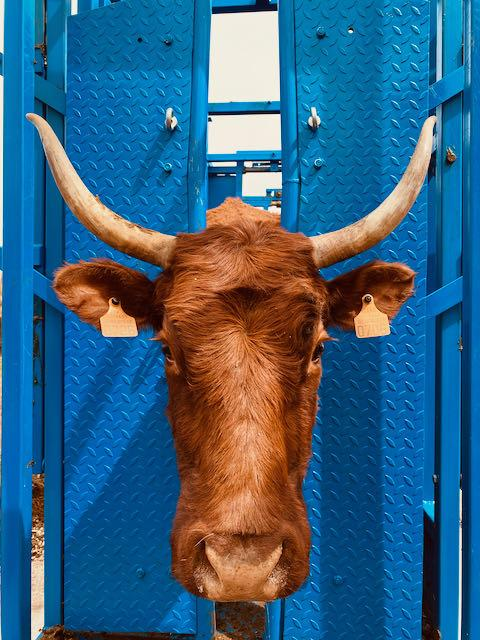muzzles: (175, 518, 303, 604)
